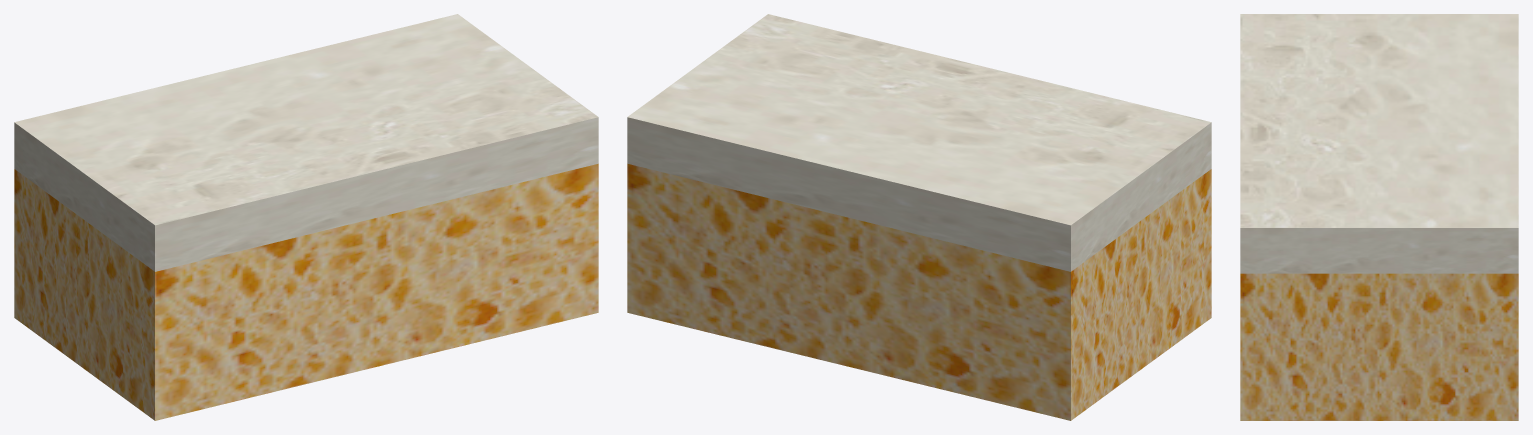
Rendered from spange.FBX.
3 views of the same model, side by side, from view 1: azimuth 30°, elevation 25°; view 2: azimuth 150°, elevation 25°; view 3: azimuth 270°, elevation 25° (orthographic).
Parts seen in each view (by area): view 1: Box001, Object001; view 2: Box001, Object001; view 3: Box001, Object001.
Part boxes in pixels (x1,y1,x2,y2): Box001: [14, 14, 598, 271]; Object001: [14, 163, 598, 420]; Box001: [627, 14, 1211, 271]; Object001: [627, 163, 1211, 420]; Box001: [1240, 14, 1518, 273]; Object001: [1240, 273, 1518, 420].
Bounding box in the file's own units: 149 × 62.92 × 82.22.
Materials: 2 (2 with a texture image).
